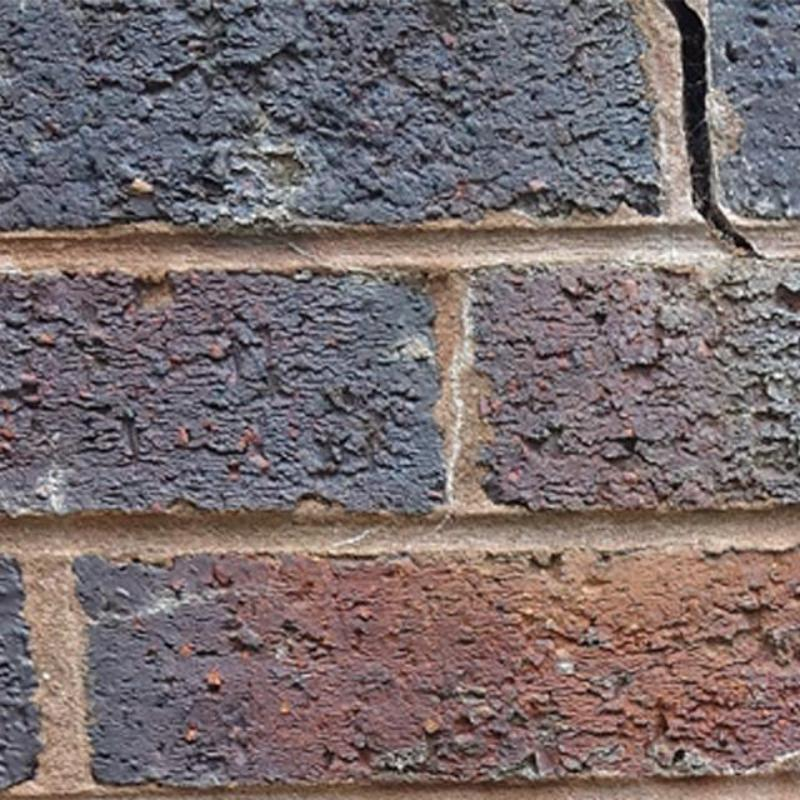pothole: (665, 0, 748, 246)
